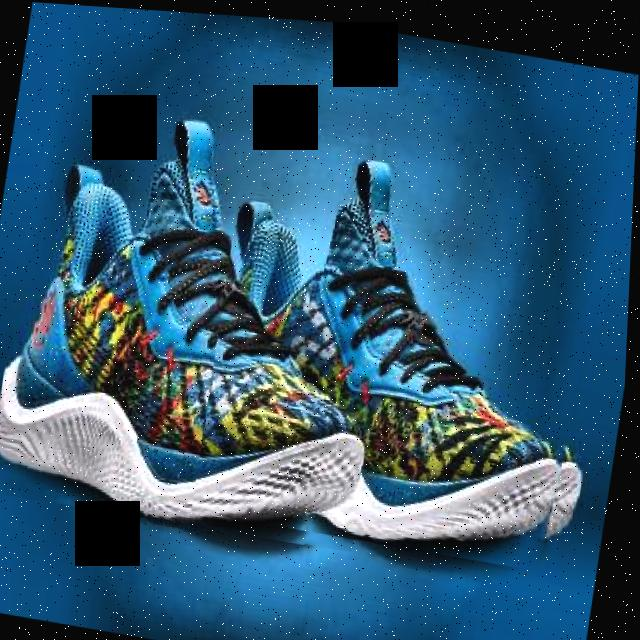shoe: (0, 102, 429, 554), (194, 132, 624, 569)
